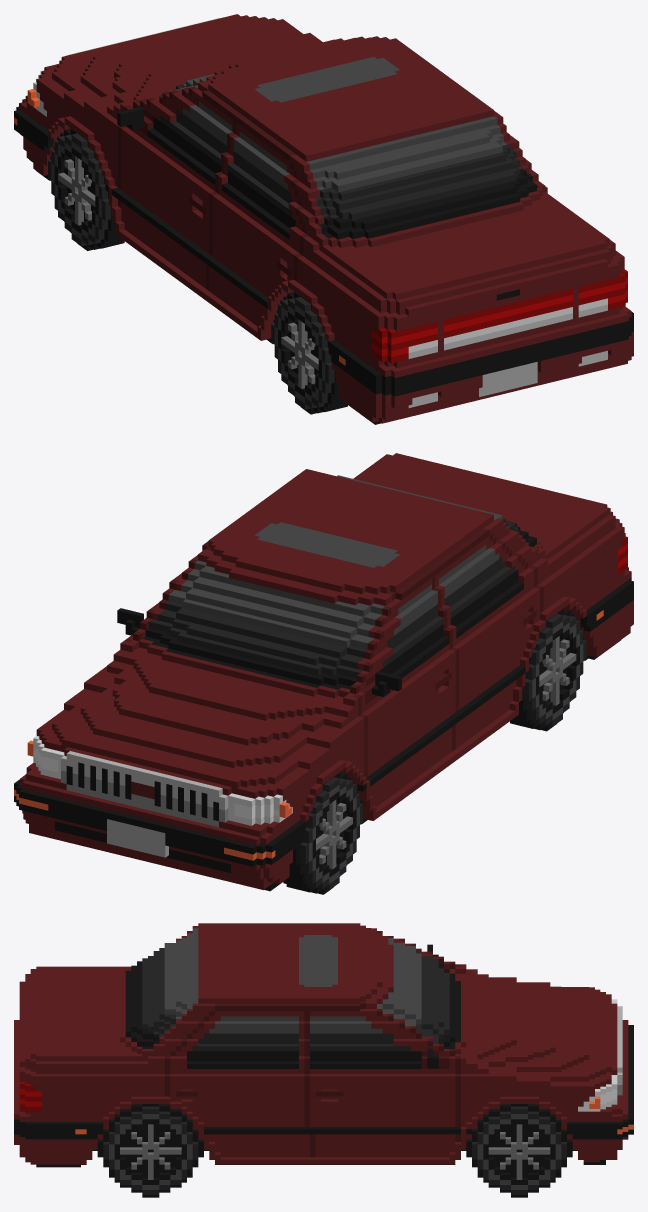
The picture shows the model from 3 angles, top to bottom: view 1: azimuth 30°, elevation 25°; view 2: azimuth 150°, elevation 25°; view 3: azimuth 270°, elevation 25°; orthographic projection. The views are drawn at different scales.
Visible parts, largest first — view 1: VOX; view 2: VOX; view 3: VOX.
Boxes of the visible parts, x1,y1,x2,y2 form: VOX: (14,14,633,424); VOX: (14,453,633,894); VOX: (14,923,633,1197).
Size of the model in its own units: 0.048 by 0.037 by 0.111.
